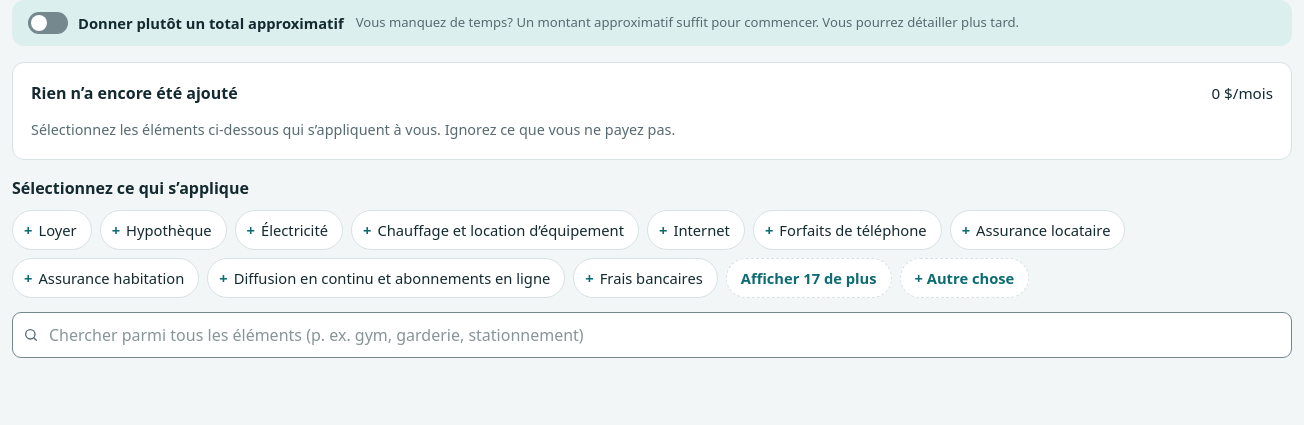
Test case: ItemSearch › ignores accents and case in French
Type "garderie" into the search field at {"x": 652, "y": 335}, box 12,312 -> 1292,358
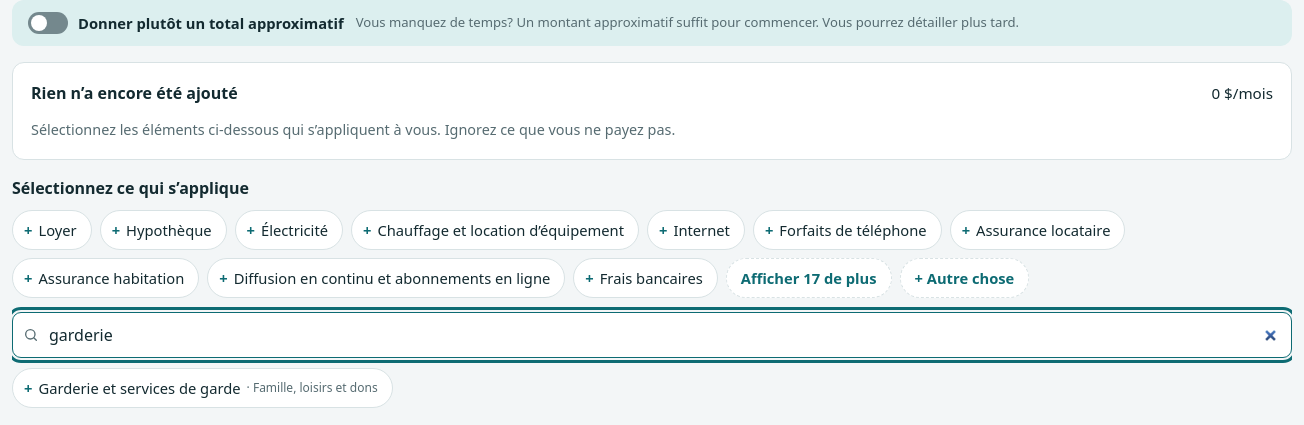
expect the button "+ Garderie et services de garde · Famille, loisirs et dons" is shown: met, box 12,368 -> 393,408
Replace the text in the search field with "EPICERIE" at {"x": 652, "y": 335}, box 12,312 -> 1292,358
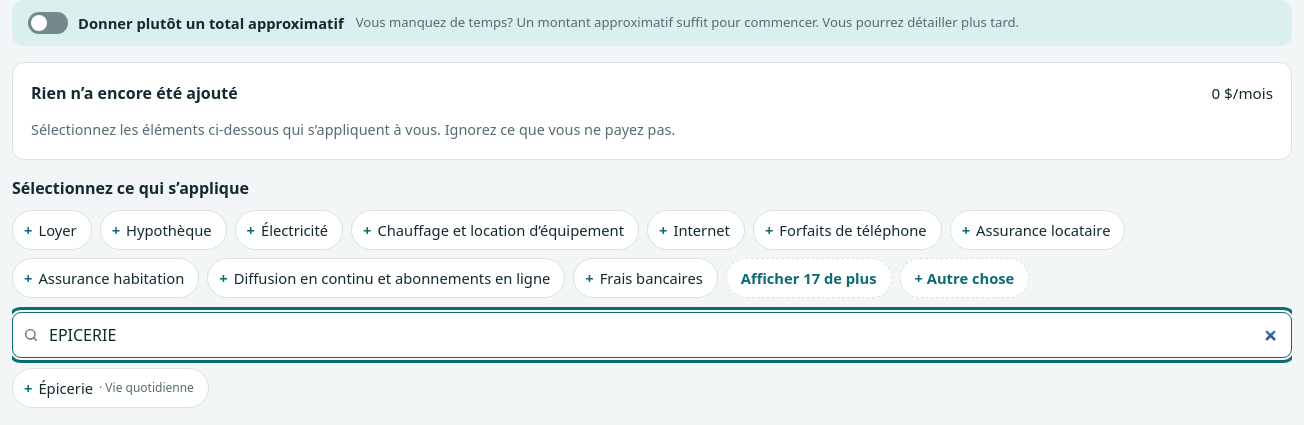
expect the button "+ Épicerie · Vie quotidienne" is shown: met, box 12,368 -> 209,408
